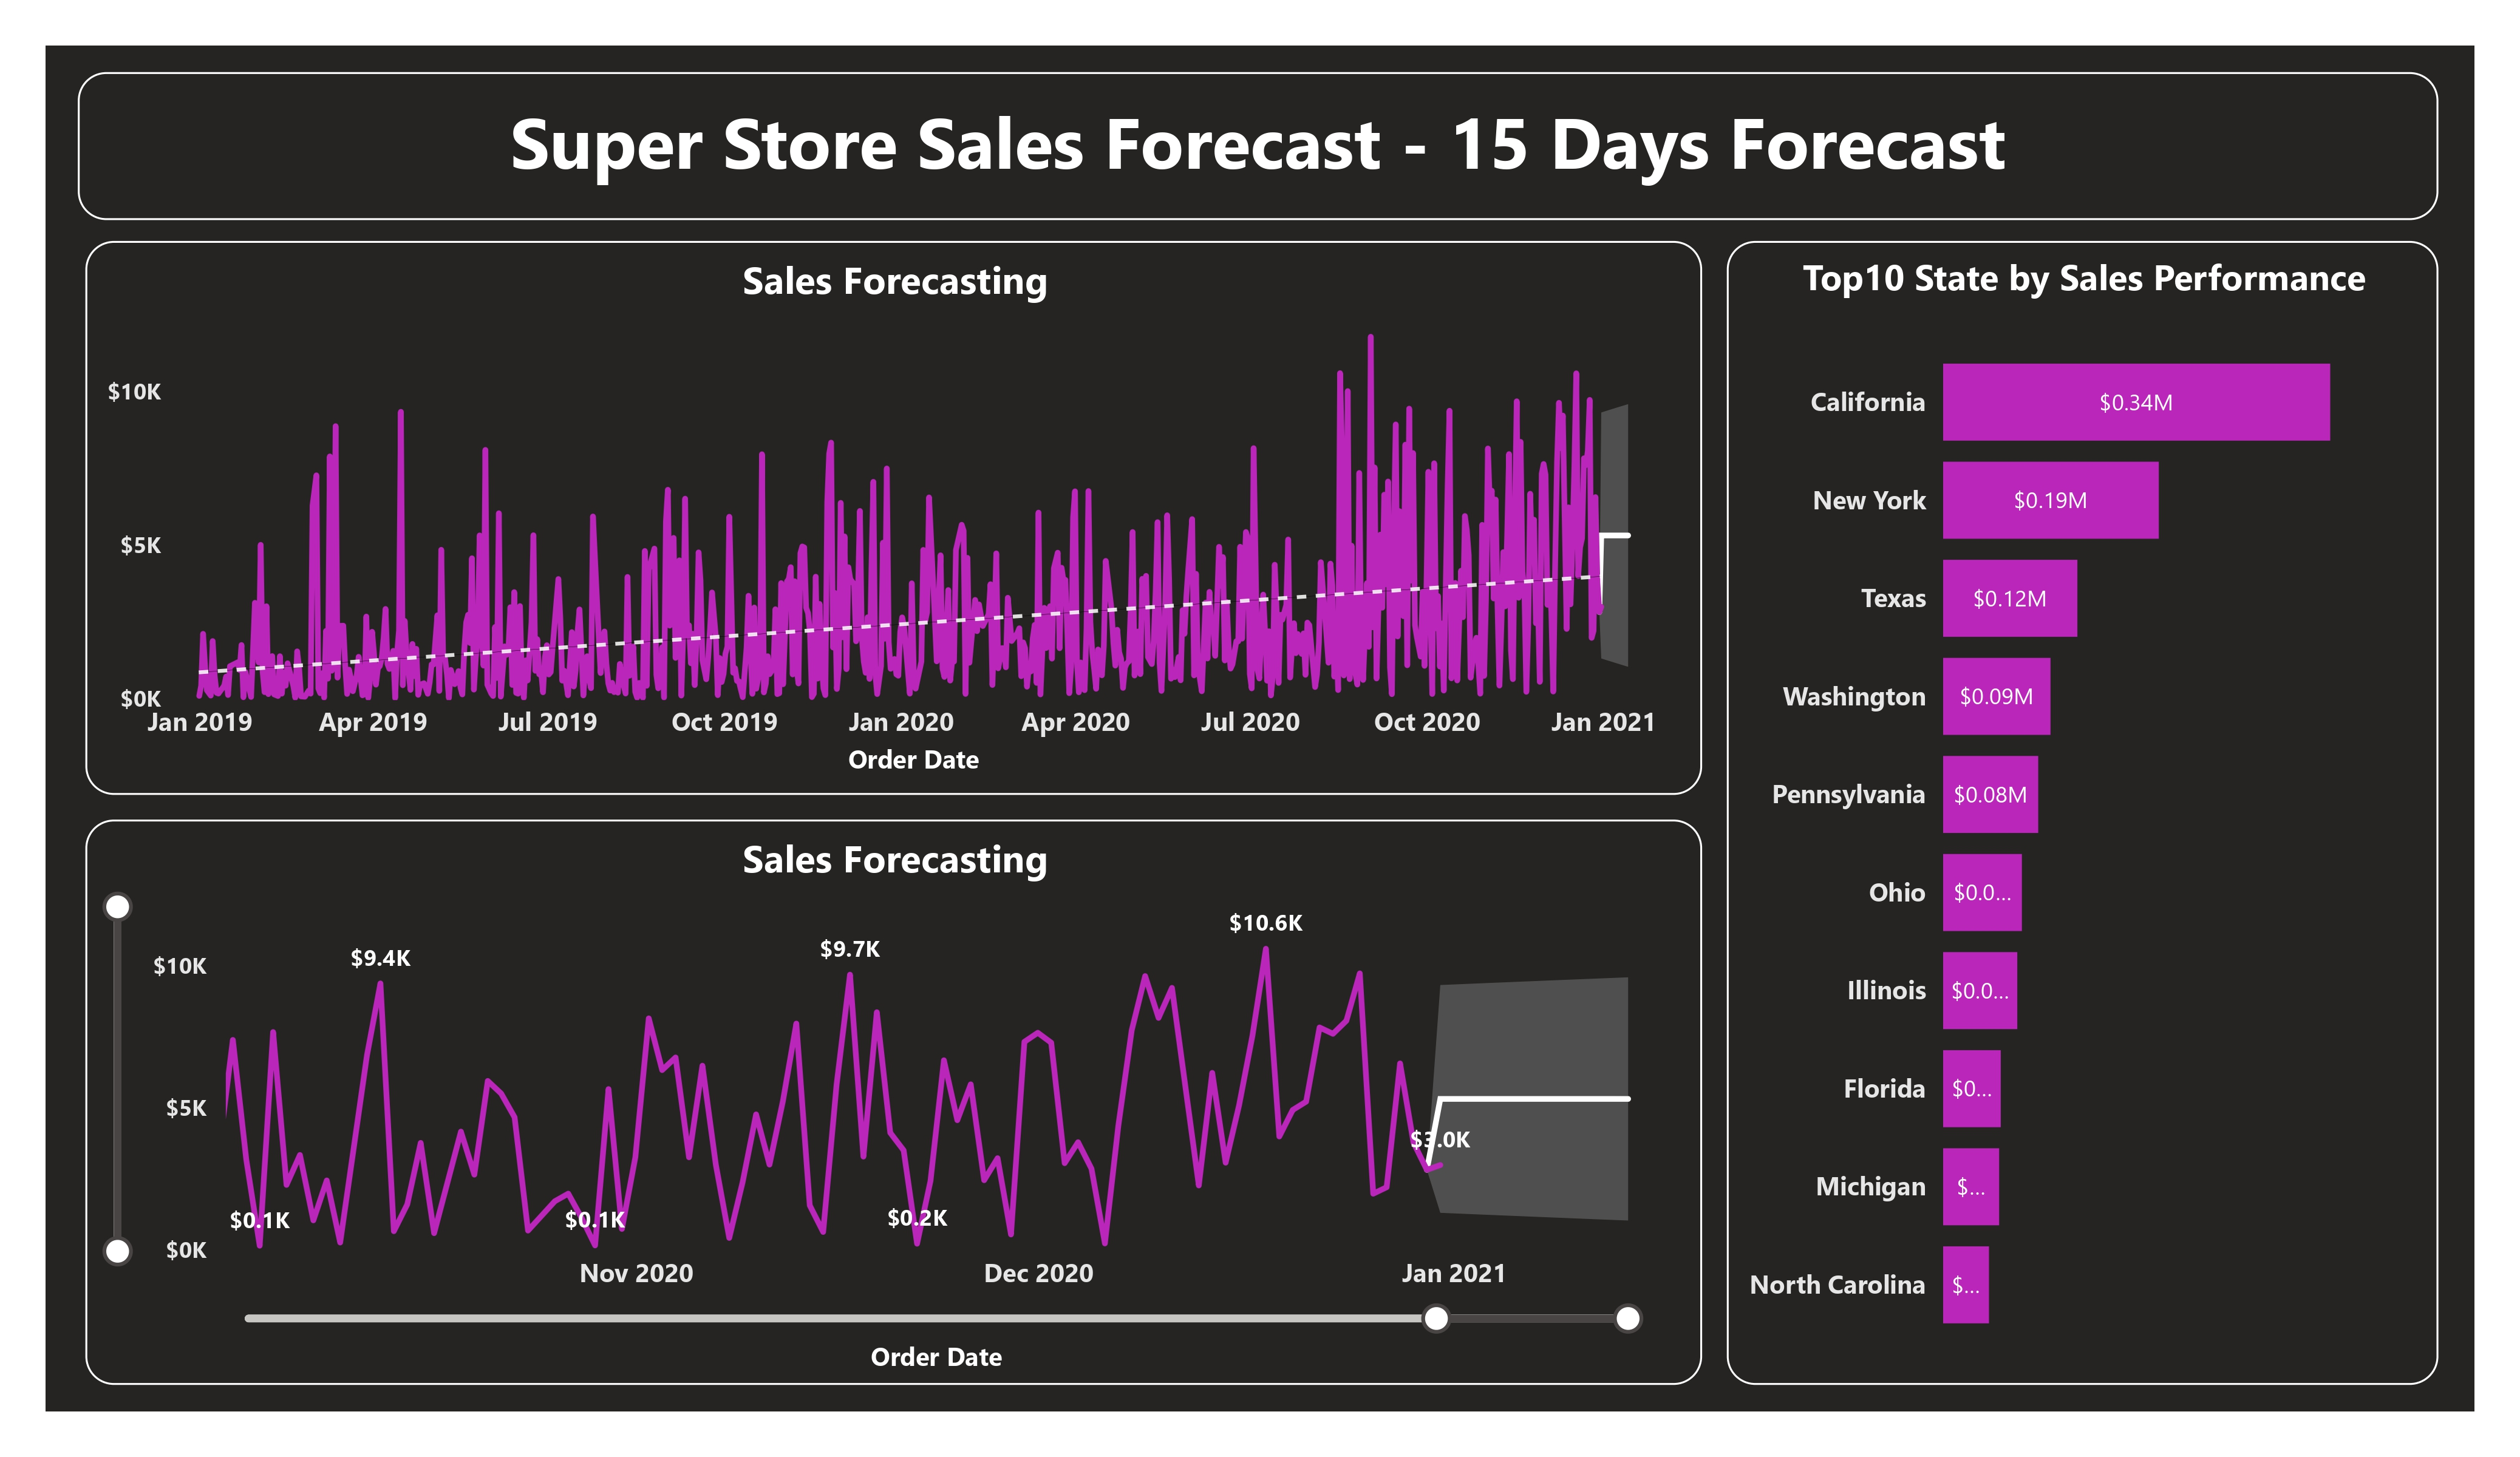

What the dashboard file says about the page in this screenshot:
{"tool":"powerbi","page":{"name":"Sales Forecasting","canvas":[1280,720],"ordinal":1},"visuals":[{"type":"lineChart","title":"Sales Forecasting","fields":{"Y":["Sum(SuperStore_Sales_Dataset.Sales)"],"Category":["SuperStore_Sales_Dataset.Order Date"]},"box":[21.2,103,851.5,292.4],"z":0},{"type":"lineChart","title":"Sales Forecasting","fields":{"Y":["Sum(SuperStore_Sales_Dataset.Sales)"],"Category":["SuperStore_Sales_Dataset.Order Date"]},"box":[21.2,407.6,851.5,298.5],"z":1000},{"type":"textbox","box":[16.7,13.6,1243.9,78.8],"z":2000},{"type":"clusteredBarChart","title":"Top10 State by Sales Performance","fields":{"Category":["SuperStore_Sales_Dataset.State"],"Y":["Sum(SuperStore_Sales_Dataset.Sales)"]},"box":[886.4,103,374.2,603],"z":3000}]}

Visuals, with their boxes in screenshot pixels (x1, y1, x2, y2):
"Sales Forecasting" lineChart: left=86, top=241, right=1701, bottom=796
"Sales Forecasting" lineChart: left=86, top=819, right=1701, bottom=1385
textbox: left=77, top=72, right=2437, bottom=221
"Top10 State by Sales Performance" clusteredBarChart: left=1728, top=241, right=2437, bottom=1385
